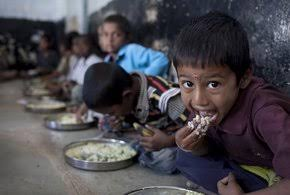student: (171, 26, 245, 123), (84, 64, 137, 123), (98, 19, 128, 52)
